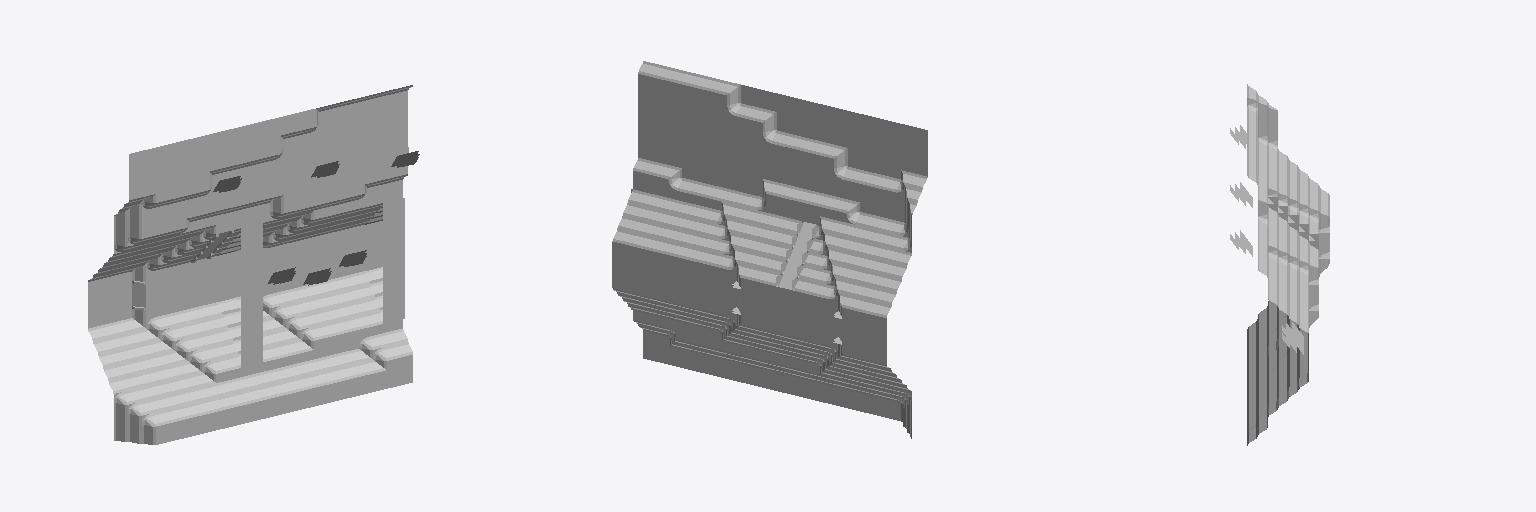
The model's file is Plat_full_09_06.obj.
The picture shows the model from 3 angles: view 1: azimuth 30°, elevation 25°; view 2: azimuth 150°, elevation 25°; view 3: azimuth 270°, elevation 25°; orthographic projection.
Visible parts, largest first — view 1: map; view 2: map; view 3: map.
Boxes of the visible parts, x1=… form: map: x1=88, y1=85, x2=419, y2=444; map: x1=612, y1=61, x2=927, y2=438; map: x1=1230, y1=84, x2=1329, y2=445.
Size of the model in its own units: 32.25 by 32 by 9.64.